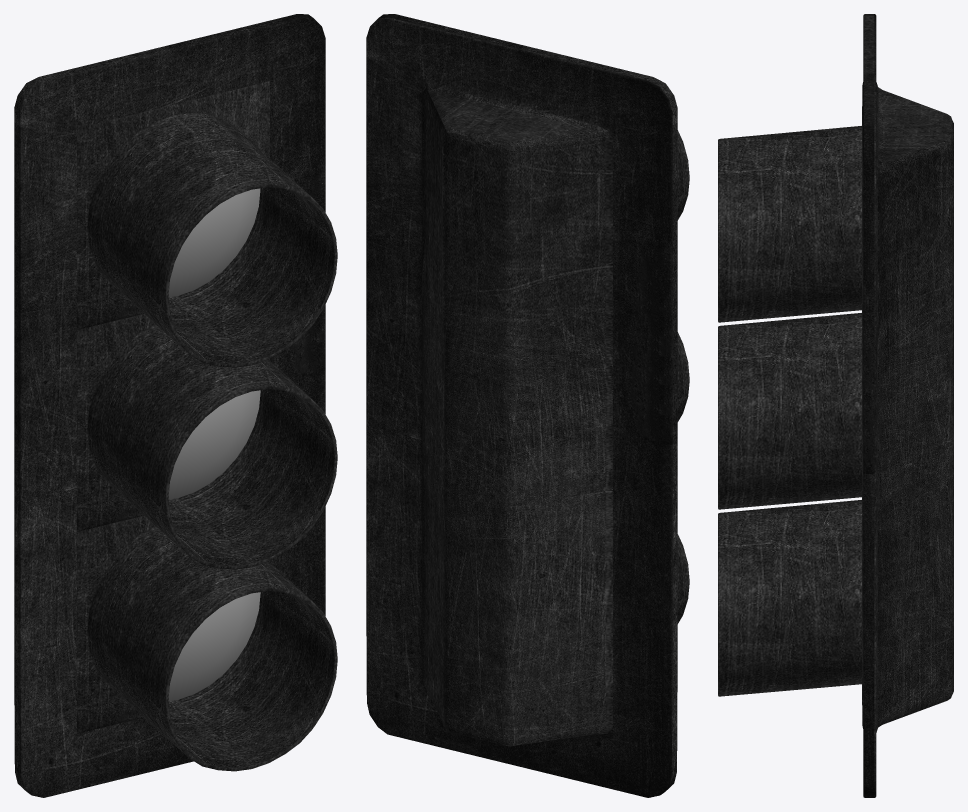
The model's file is TrafficSignalVerticalFullConeBlack3.fbx.
3 views of the same model, side by side, from view 1: azimuth 30°, elevation 25°; view 2: azimuth 150°, elevation 25°; view 3: azimuth 270°, elevation 25° (orthographic). The views are drawn at different scales.
Parts seen in each view (by area): view 1: Casing, SignalLight1, SignalLight2, SignalLight0; view 2: Casing; view 3: Casing.
Part boxes in pixels (<box>): Casing: <box>14,14,337,797</box>; SignalLight1: <box>168,390,260,499</box>; SignalLight2: <box>168,592,260,701</box>; SignalLight0: <box>168,188,260,297</box>; Casing: <box>366,14,689,797</box>; Casing: <box>718,14,953,797</box>.
Size of the model in its own units: 0.6568 by 1.47 by 0.473.
